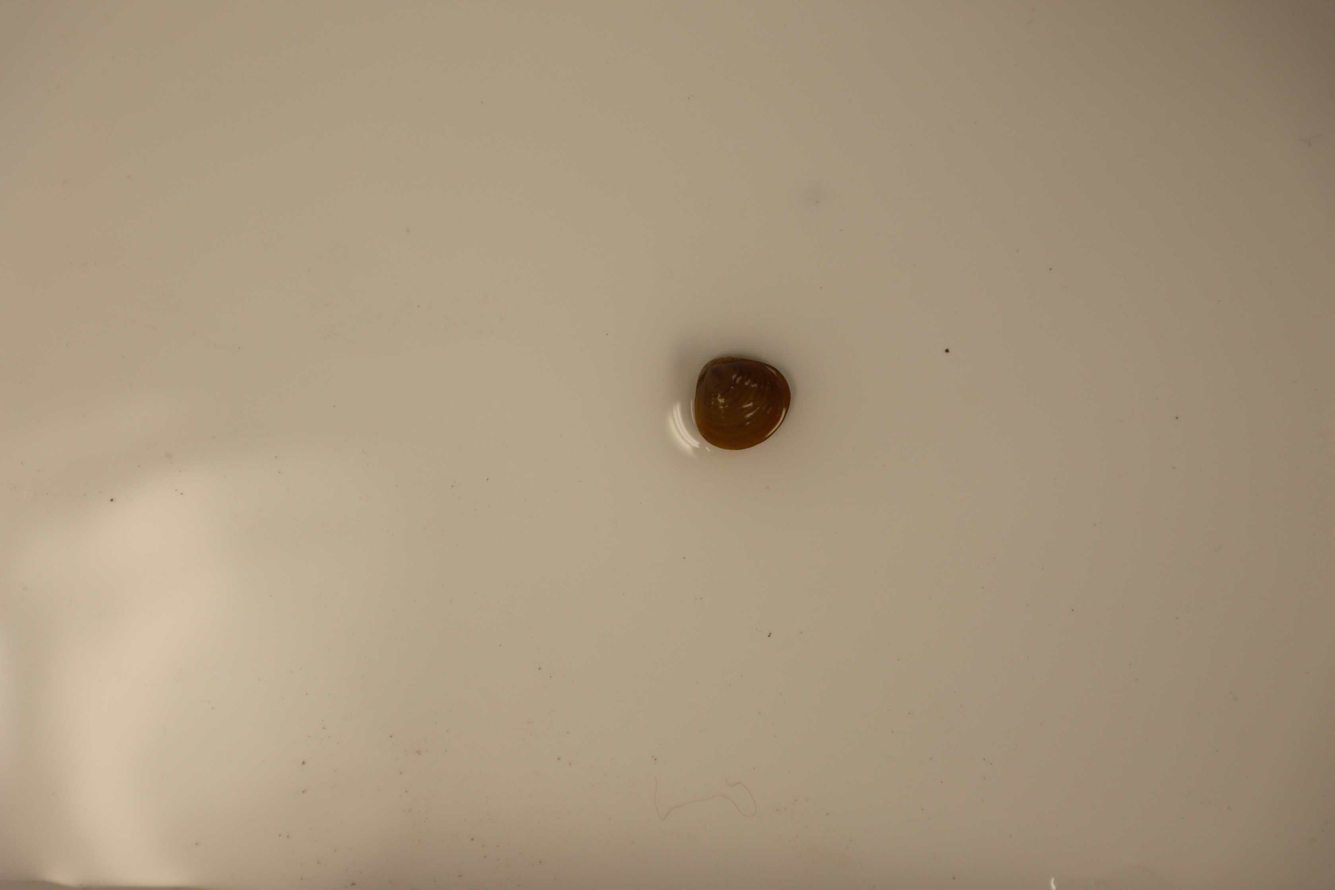Other: (670, 357, 794, 451)
